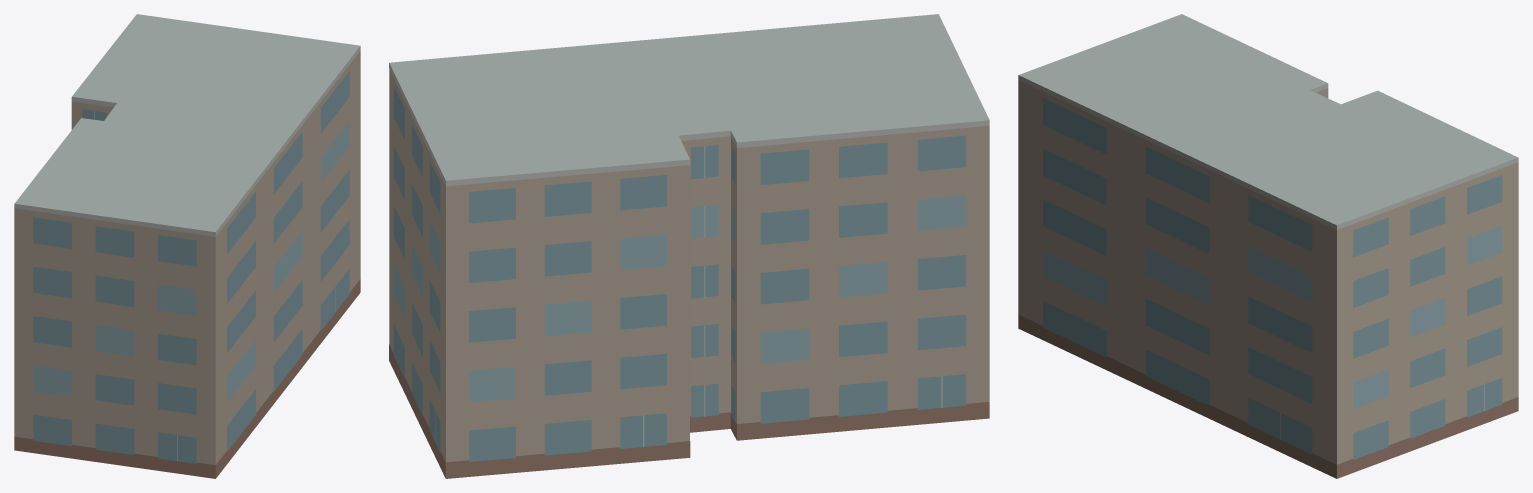
File: survey-upis-32642504.glb
The picture shows the model from 3 angles, left to right: view 1: azimuth 30°, elevation 25°; view 2: azimuth 150°, elevation 25°; view 3: azimuth 270°, elevation 25°; orthographic projection. The views are drawn at different scales.
Parts seen in each view (by area): view 1: survey-upis-32642504.tmp; view 2: survey-upis-32642504.tmp; view 3: survey-upis-32642504.tmp.
Part boxes in pixels (x1,y1,x2,y2): survey-upis-32642504.tmp: (14,14,360,478); survey-upis-32642504.tmp: (389,14,989,478); survey-upis-32642504.tmp: (1018,14,1518,478).
Bounding box in the file's own units: 23.25 × 13 × 23.25.
